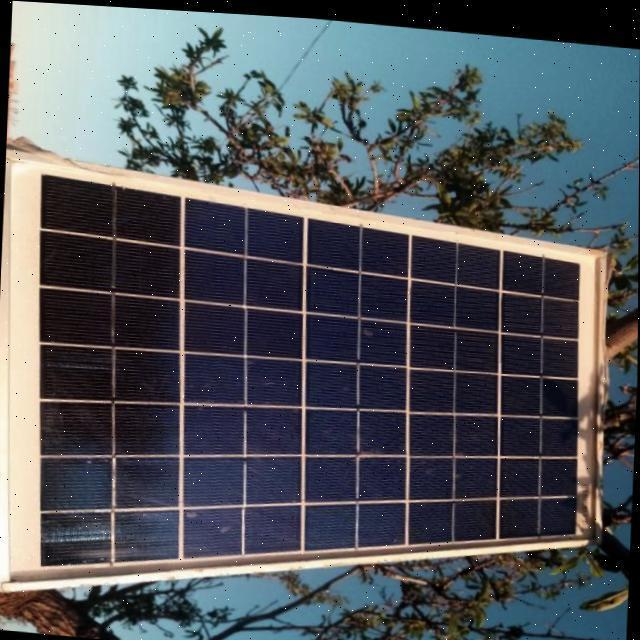Normal Solar Panel: (0, 156, 610, 637)
